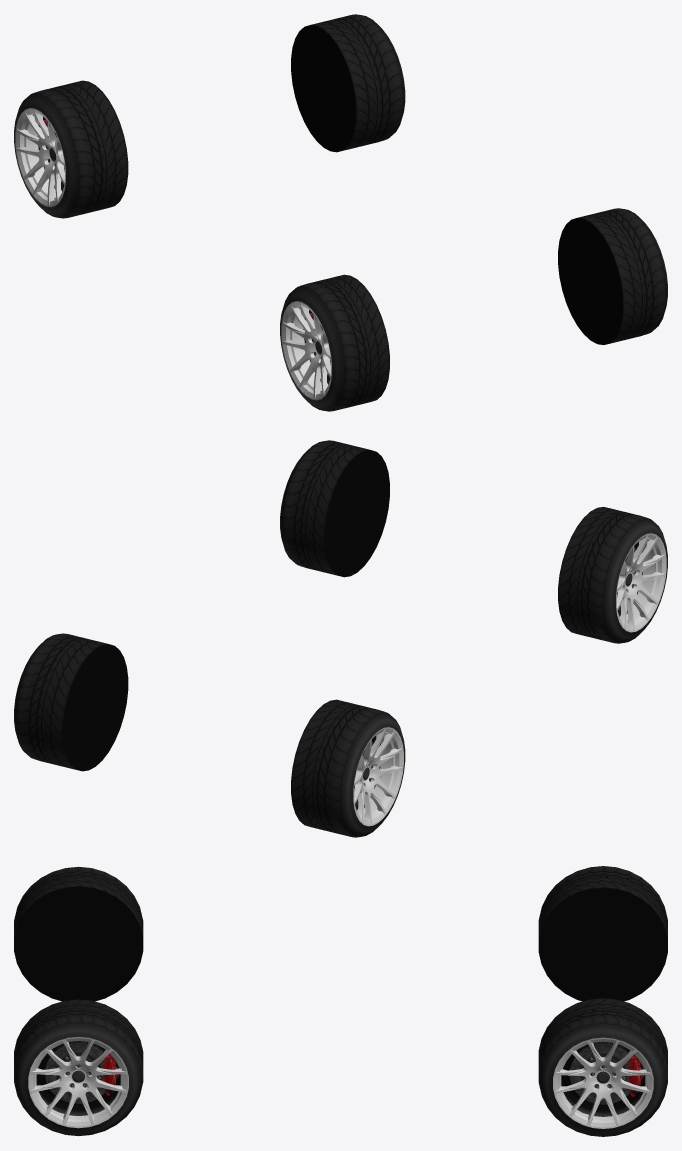
3 renders of one model, top to bottom at view 1: azimuth 30°, elevation 25°; view 2: azimuth 150°, elevation 25°; view 3: azimuth 270°, elevation 25°, orthographic.
Parts seen in each view (by area): view 1: Whl_HD_RL, Whl_HD_RR, Whl_HD_FL, Whl_HD_FR; view 2: Whl_HD_RL, Whl_HD_RR, Whl_HD_FL, Whl_HD_FR; view 3: Whl_HD_RR, Whl_HD_RL, Whl_HD_FR, Whl_HD_FL.
Boxes of the visible parts, <box> form: Whl_HD_RL: <box>291,14,405,152</box>; Whl_HD_RR: <box>14,80,128,218</box>; Whl_HD_FL: <box>558,208,667,344</box>; Whl_HD_FR: <box>280,274,389,411</box>; Whl_HD_RL: <box>14,633,128,771</box>; Whl_HD_RR: <box>291,699,405,837</box>; Whl_HD_FL: <box>280,440,389,577</box>; Whl_HD_FR: <box>558,507,667,643</box>; Whl_HD_RR: <box>538,866,667,1001</box>; Whl_HD_RL: <box>538,998,667,1136</box>; Whl_HD_FR: <box>14,866,143,1001</box>; Whl_HD_FL: <box>14,999,143,1136</box>.
Size of the model in its own units: 184 by 61.52 by 311.
2 materials, 1 textured.
